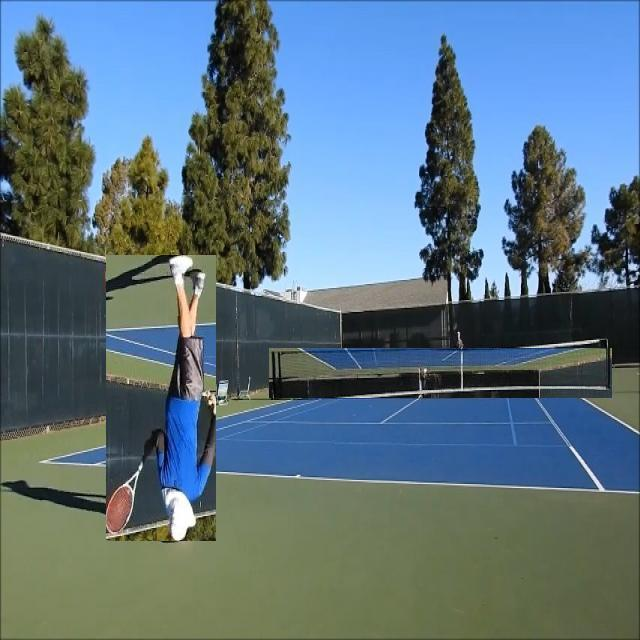court: (38, 378, 640, 494)
net: (269, 348, 612, 398)
player: (106, 255, 216, 541)
